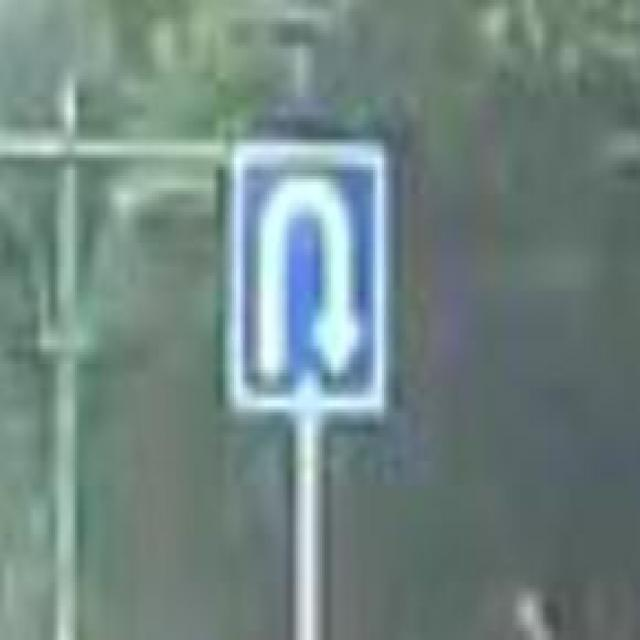traffic sign: (225, 143, 388, 413)
